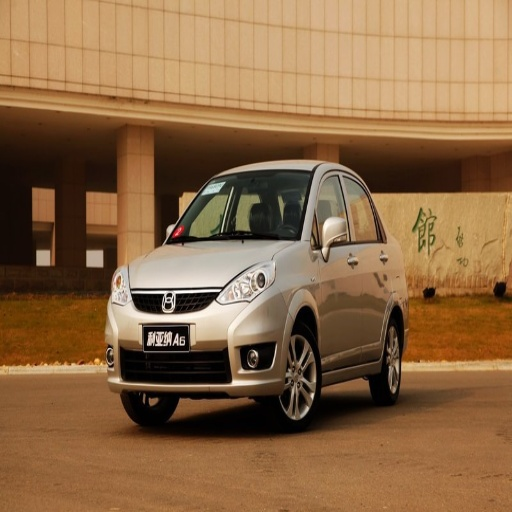front_bumper: (108, 275, 288, 393)
front_glass: (166, 171, 312, 243)
front_left_door: (314, 168, 361, 364)
